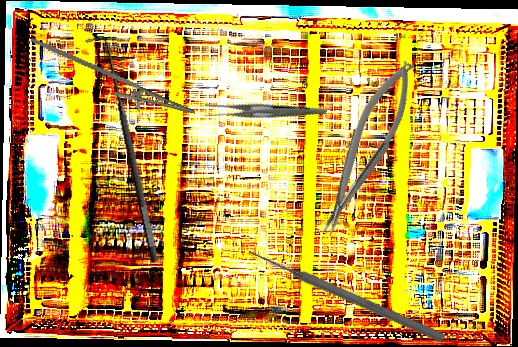Dressing Forceps: (201, 72, 328, 153)
Hook Surgical: (84, 31, 163, 267)
Needle Holder: (303, 54, 429, 242), (19, 36, 203, 129)
Pusher: (246, 245, 447, 345)
